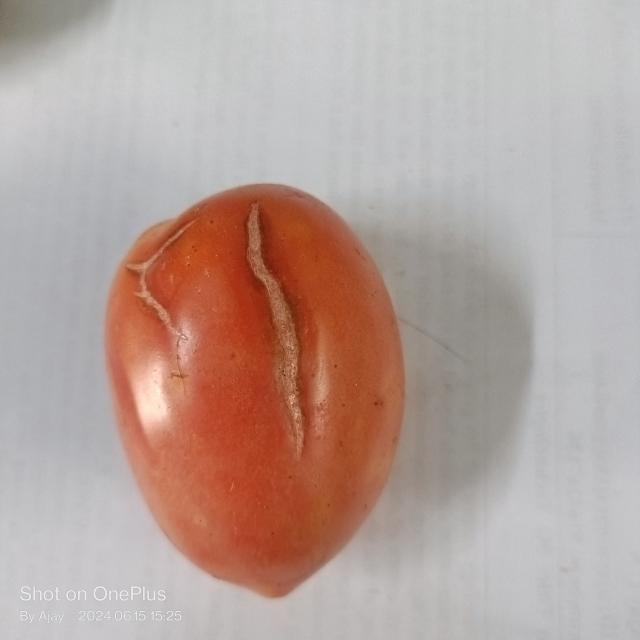tomato_cracking: (243, 180, 330, 448)
